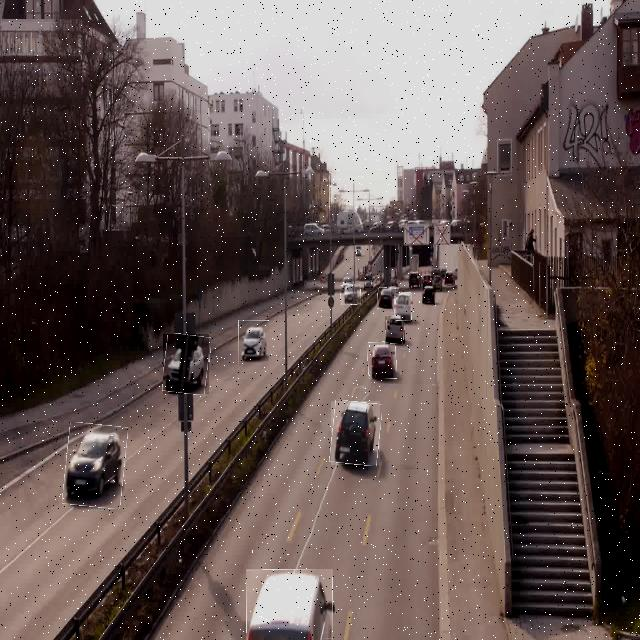Car: (246, 569, 333, 640), (64, 424, 126, 508), (331, 401, 380, 465), (163, 334, 210, 394), (238, 320, 269, 367), (368, 342, 397, 379), (385, 316, 405, 344), (395, 293, 412, 321), (341, 285, 361, 305), (378, 288, 396, 309), (422, 284, 436, 304)
